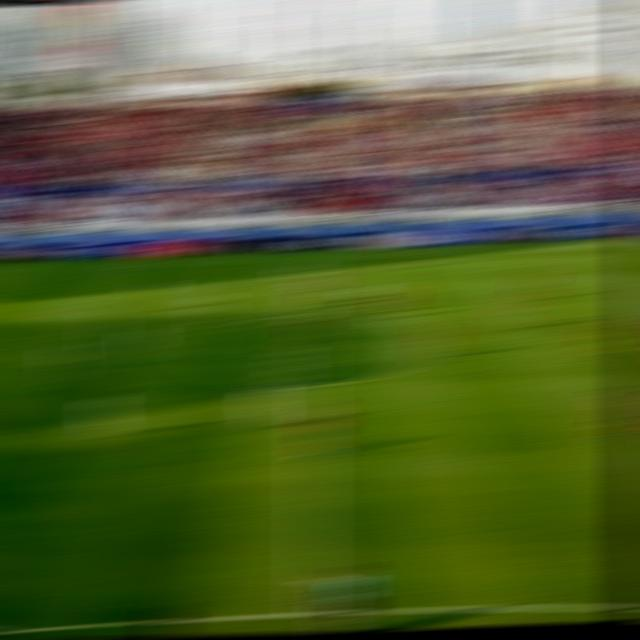halfcircle_bottom: (294, 372, 333, 394)
halfcircle_top: (297, 306, 332, 320)
midline_bottom_intersection: (291, 600, 334, 620)
midline_top_intersection: (300, 249, 332, 262)
